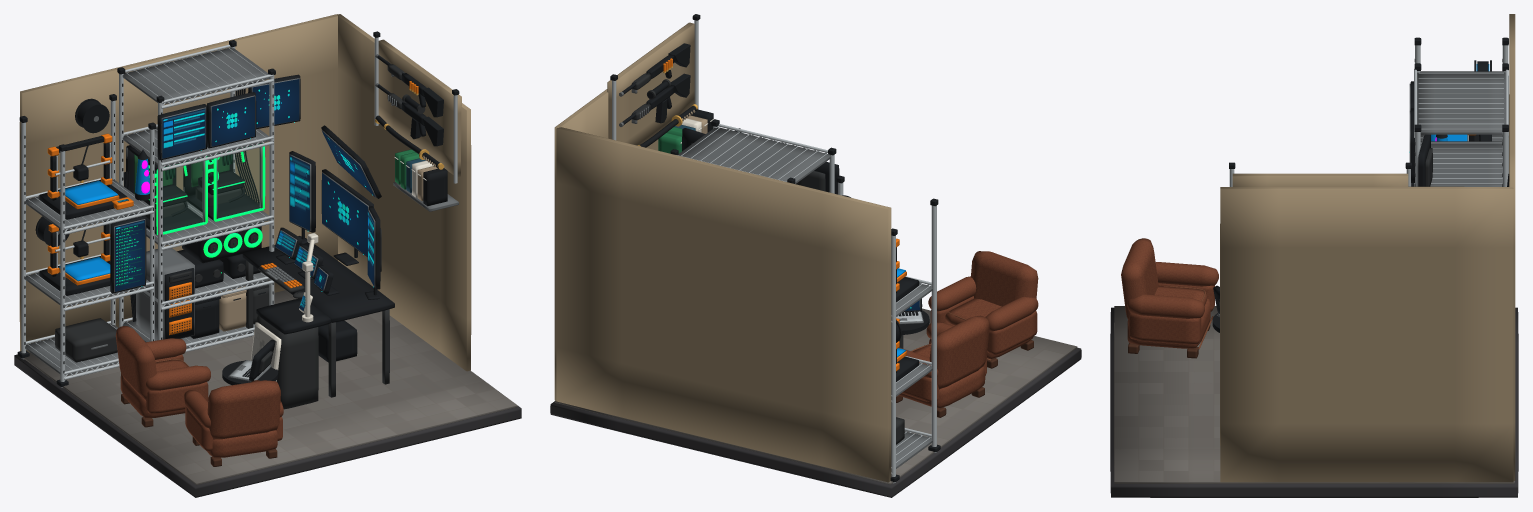
File: blakesDeskDetailed.glb
The picture shows the model from 3 angles, left to right: view 1: azimuth 30°, elevation 25°; view 2: azimuth 150°, elevation 25°; view 3: azimuth 270°, elevation 25°; orthographic projection. The views are drawn at different scales.
Visible parts, largest first — view 1: wall, black, floor, chrome, steel, cloth, charcoal, base, screenHex, screenDash, orange, green (+5 smaller); view 2: wall, cloth, base, floor, steel, chrome, black, charcoal; view 3: wall, floor, steel, cloth, base, chrome, black.
Part boxes in pixels (x1=…): wall: x1=19, y1=14, x2=471, y2=371; black: x1=17, y1=31, x2=459, y2=386; floor: x1=23, y1=290, x2=517, y2=485; chrome: x1=21, y1=37, x2=457, y2=387; steel: x1=25, y1=47, x2=458, y2=381; cloth: x1=115, y1=326, x2=283, y2=457; charcoal: x1=24, y1=64, x2=425, y2=409; base: x1=14, y1=354, x2=521, y2=497; screenHex: x1=211, y1=79, x2=374, y2=289; screenDash: x1=117, y1=108, x2=374, y2=310; orange: x1=47, y1=81, x2=418, y2=335; green: x1=148, y1=146, x2=265, y2=273; wall: x1=554, y1=22, x2=891, y2=482; cloth: x1=898, y1=251, x2=1038, y2=407; base: x1=550, y1=347, x2=1081, y2=497; floor: x1=554, y1=308, x2=1077, y2=484; steel: x1=619, y1=62, x2=932, y2=468; chrome: x1=612, y1=20, x2=936, y2=483; black: x1=610, y1=14, x2=940, y2=482; charcoal: x1=631, y1=73, x2=904, y2=444; wall: x1=1220, y1=14, x2=1515, y2=482; floor: x1=1114, y1=306, x2=1514, y2=483; steel: x1=1217, y1=71, x2=1505, y2=316; cloth: x1=1121, y1=238, x2=1218, y2=348; base: x1=1110, y1=307, x2=1518, y2=497; chrome: x1=1218, y1=45, x2=1508, y2=314; black: x1=1212, y1=37, x2=1509, y2=332.
Size of the model in its own units: 2.72 by 2.32 by 2.62.
28 materials, 6 textured.
